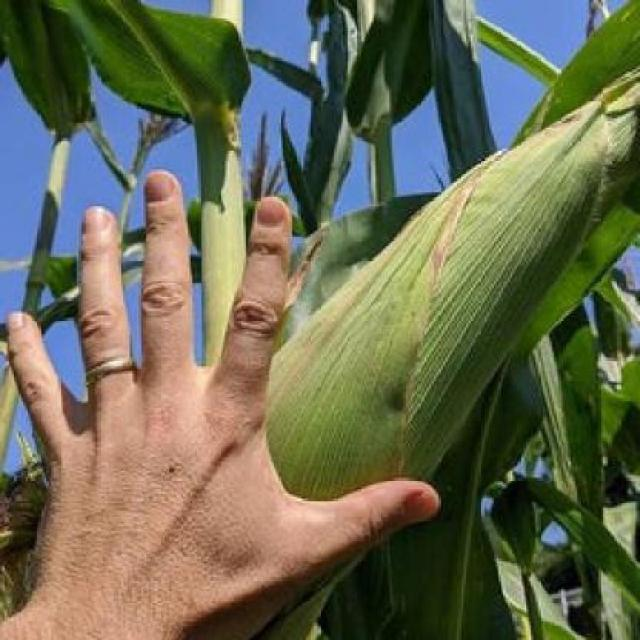Corn: (23, 60, 639, 612)
